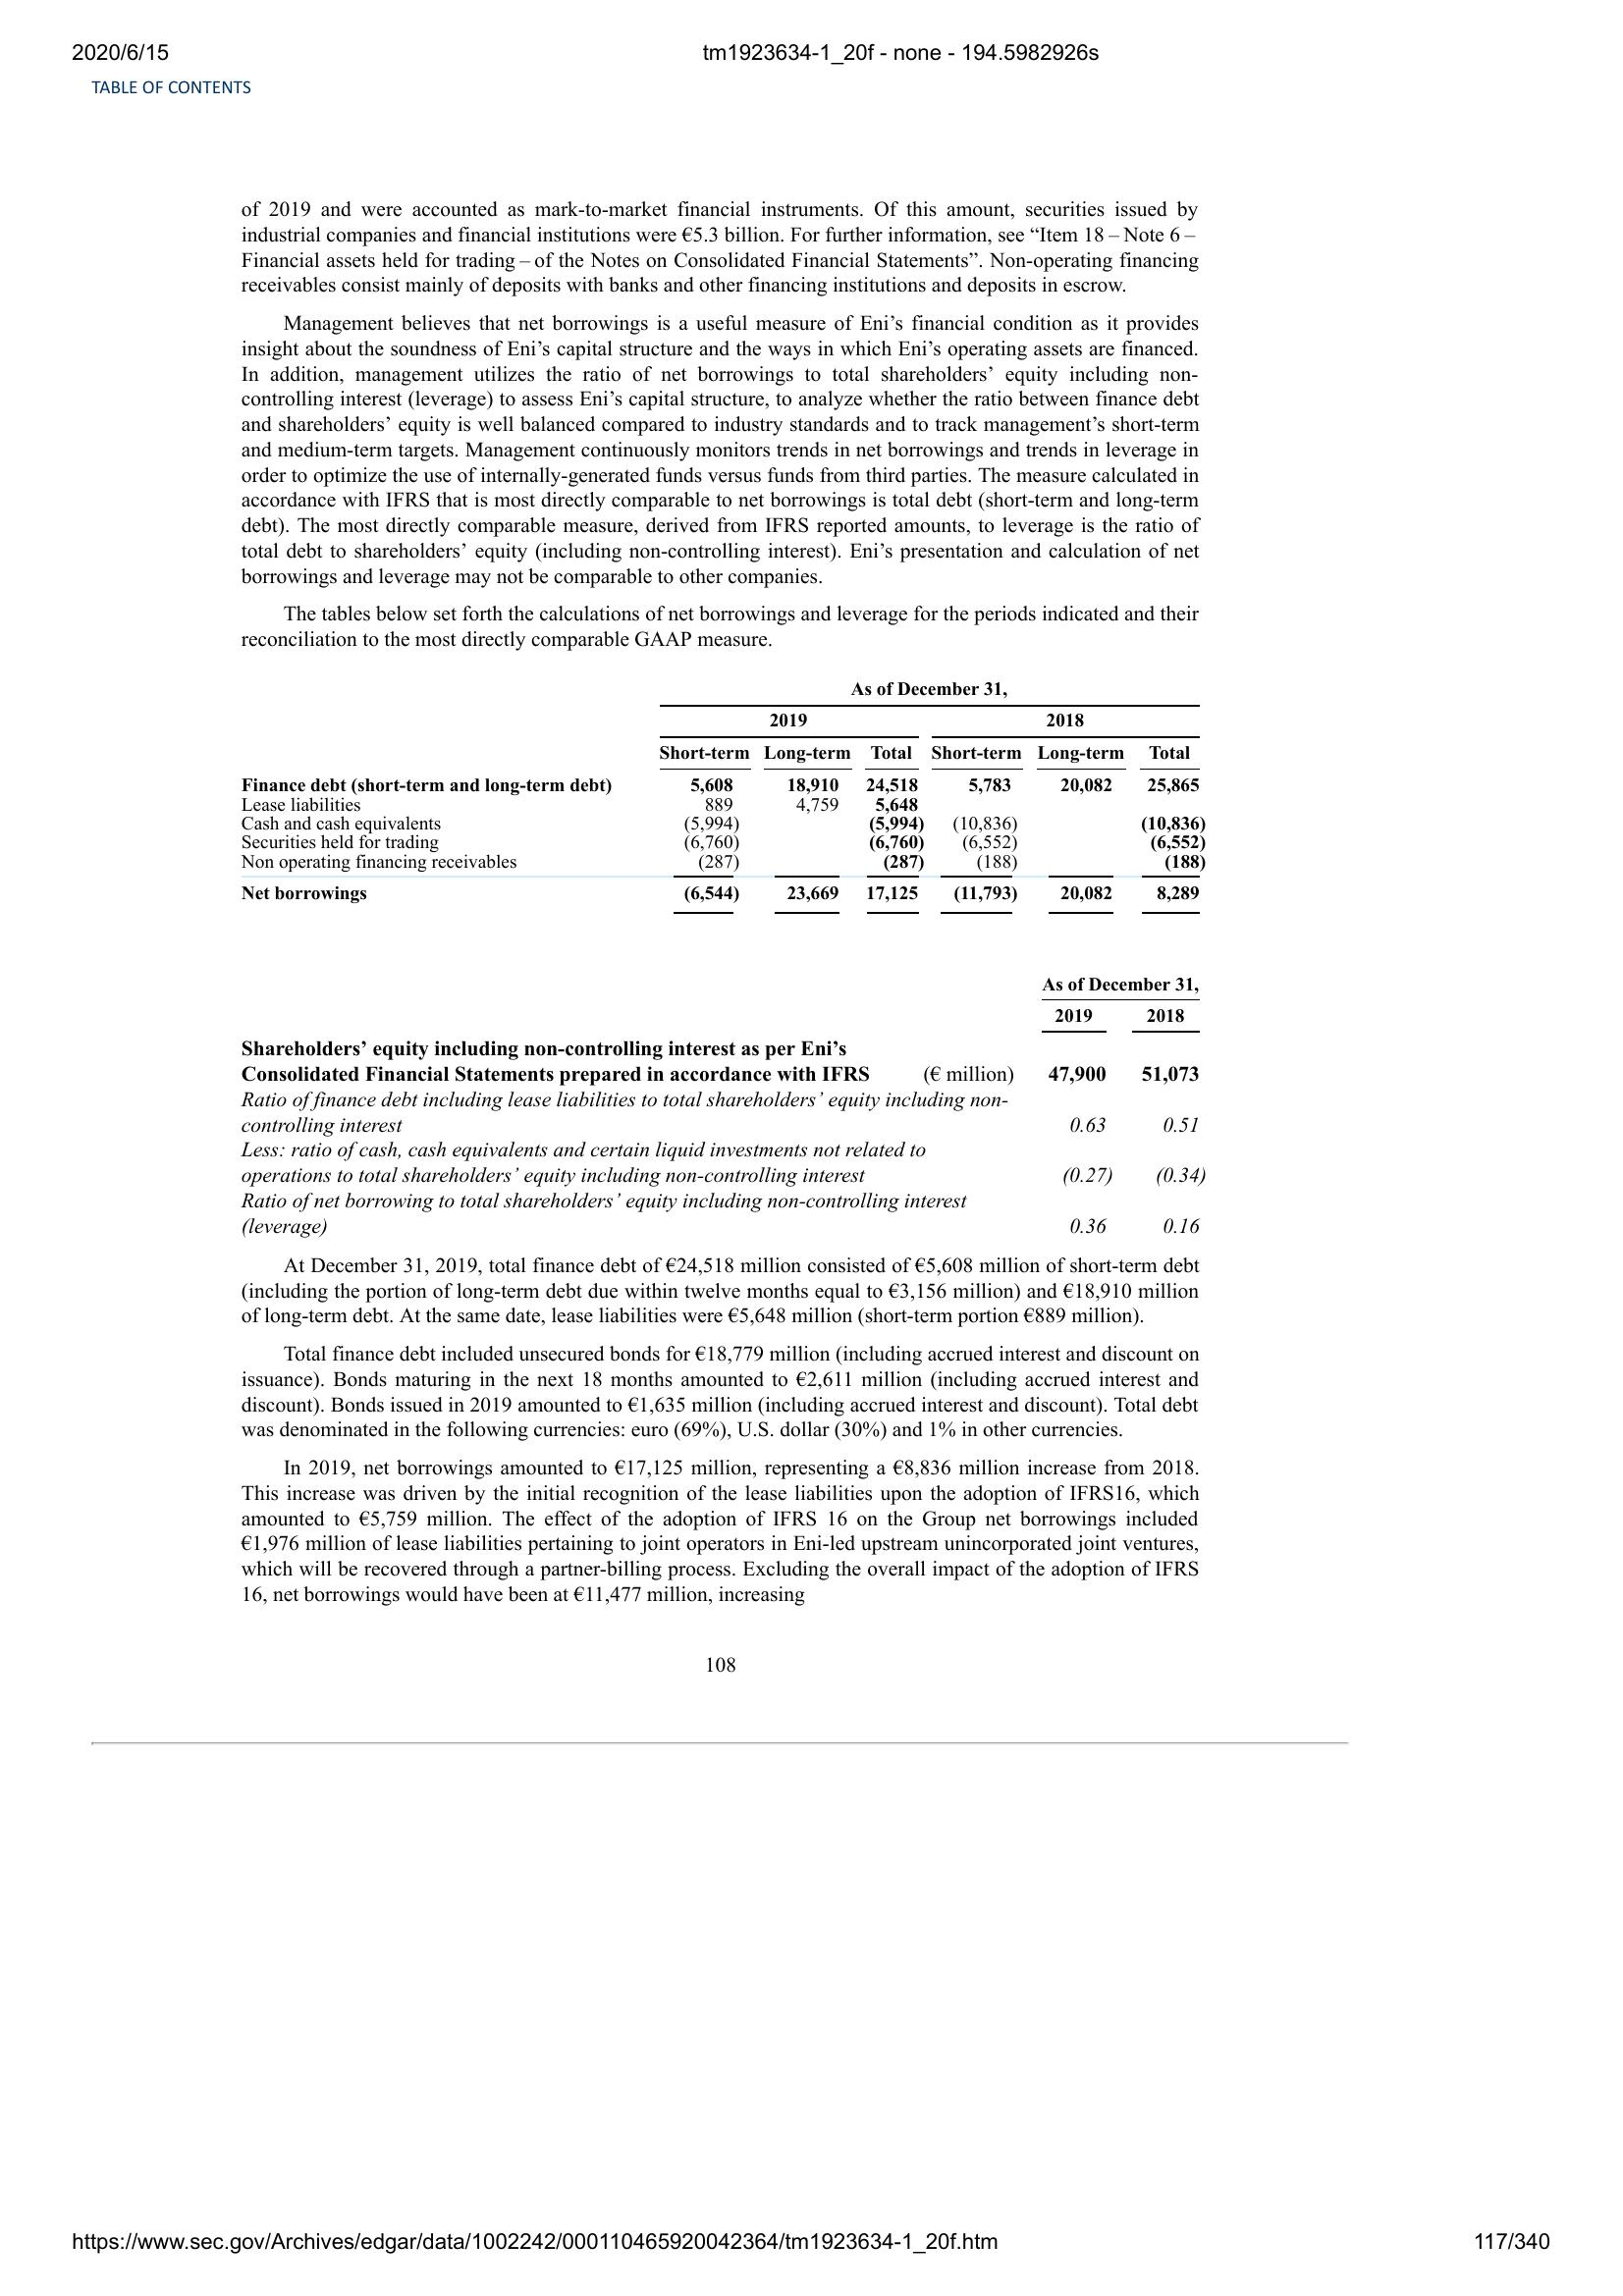table: (230, 974, 1208, 1250), (235, 674, 1212, 925)
